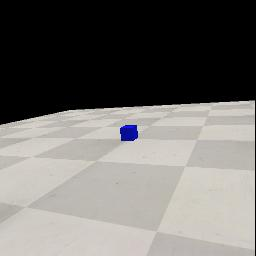box: (120, 125, 138, 141)
